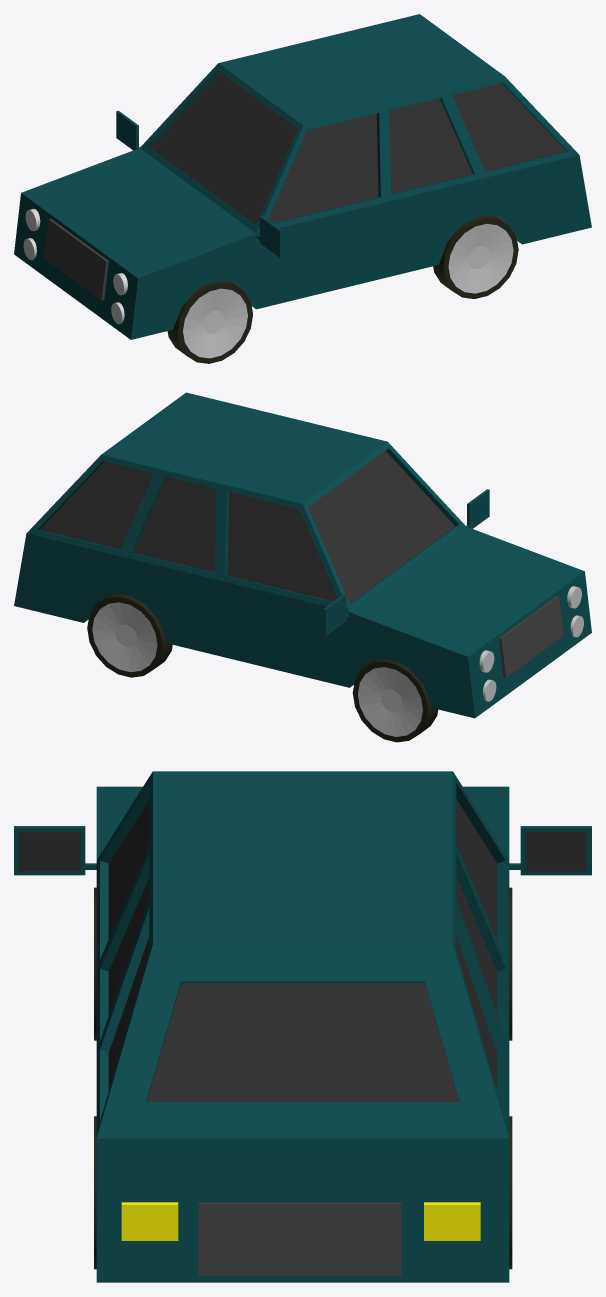
Rendered from car3.FBX.
3 views of the same model, one above another, from view 1: azimuth 30°, elevation 25°; view 2: azimuth 150°, elevation 25°; view 3: azimuth 270°, elevation 25° (orthographic). The views are drawn at different scales.
Visible parts, largest first — view 1: car3; view 2: car3; view 3: car3.
Boxes of the visible parts, bbox=[...] form: car3: bbox=[14, 14, 591, 363]; car3: bbox=[14, 392, 591, 742]; car3: bbox=[14, 771, 591, 1282].
Size of the model in its own units: 10.05 by 4.13 by 6.16.
